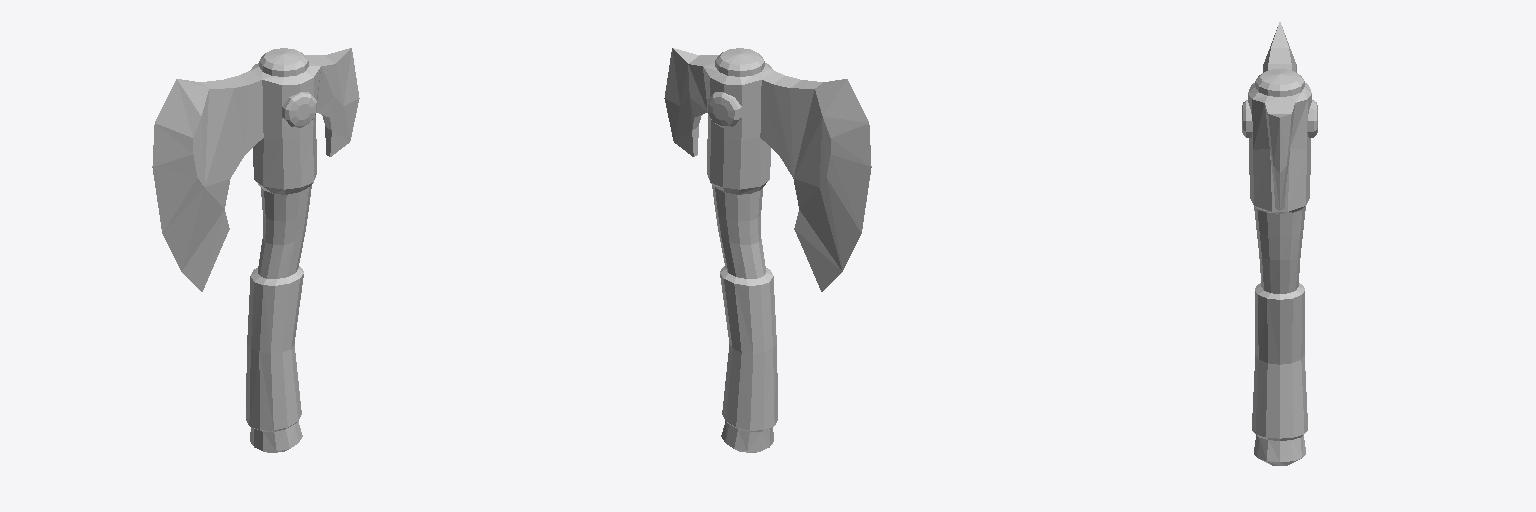
The model's file is vikingAxe.obj.
3 renders of one model, left to right at view 1: azimuth 30°, elevation 25°; view 2: azimuth 150°, elevation 25°; view 3: azimuth 270°, elevation 25°, orthographic.
Visible parts, largest first — view 1: vikingAxe_Cube.4967; view 2: vikingAxe_Cube.4967; view 3: vikingAxe_Cube.4967.
Boxes of the visible parts, x1,y1,x2,y2 form: vikingAxe_Cube.4967: [152, 48, 359, 452]; vikingAxe_Cube.4967: [664, 48, 871, 452]; vikingAxe_Cube.4967: [1242, 22, 1317, 465].
Size of the model in its own units: 0.4427 by 0.803 by 0.1423.